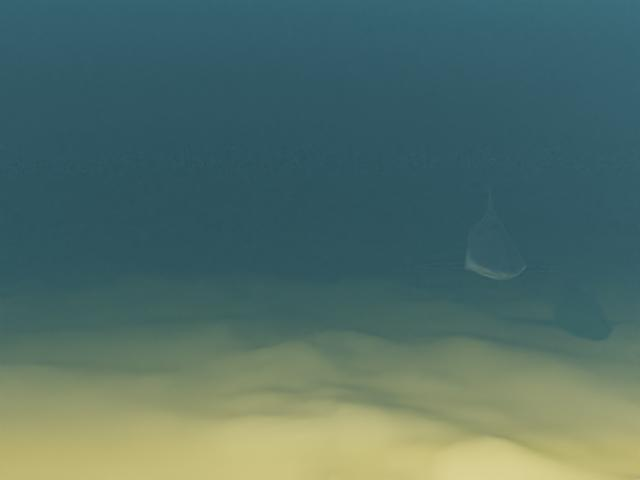Carribean Shark.001: (408, 178, 571, 279)
